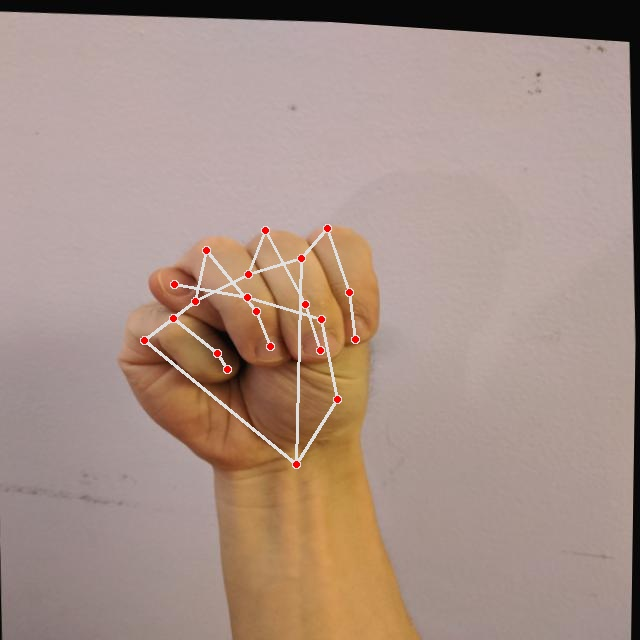M: (103, 201, 398, 482)
